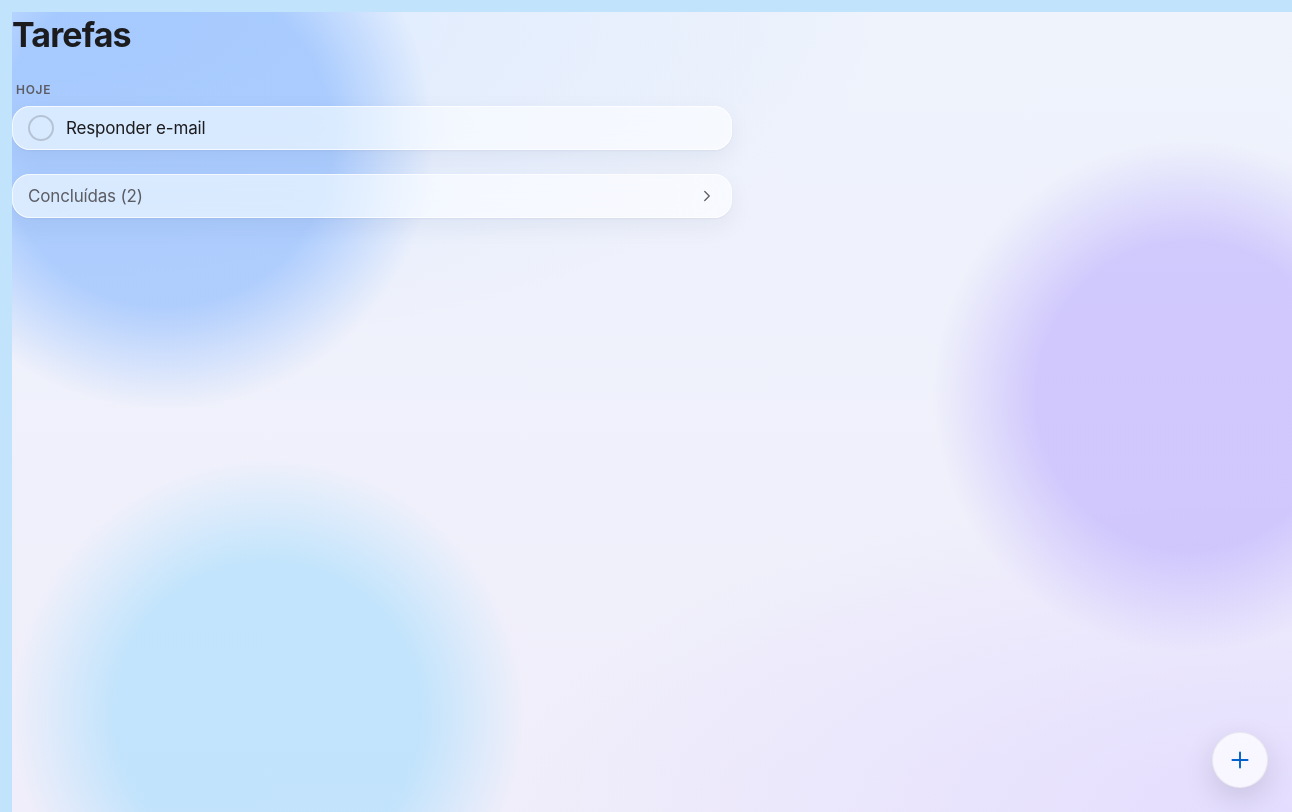
Test case: Tarefas › concluidas ficam recolhidas no fim, com a contagem
Click the button with class "concluidas__alternar" at (85, 196), box [12,174,732,218]
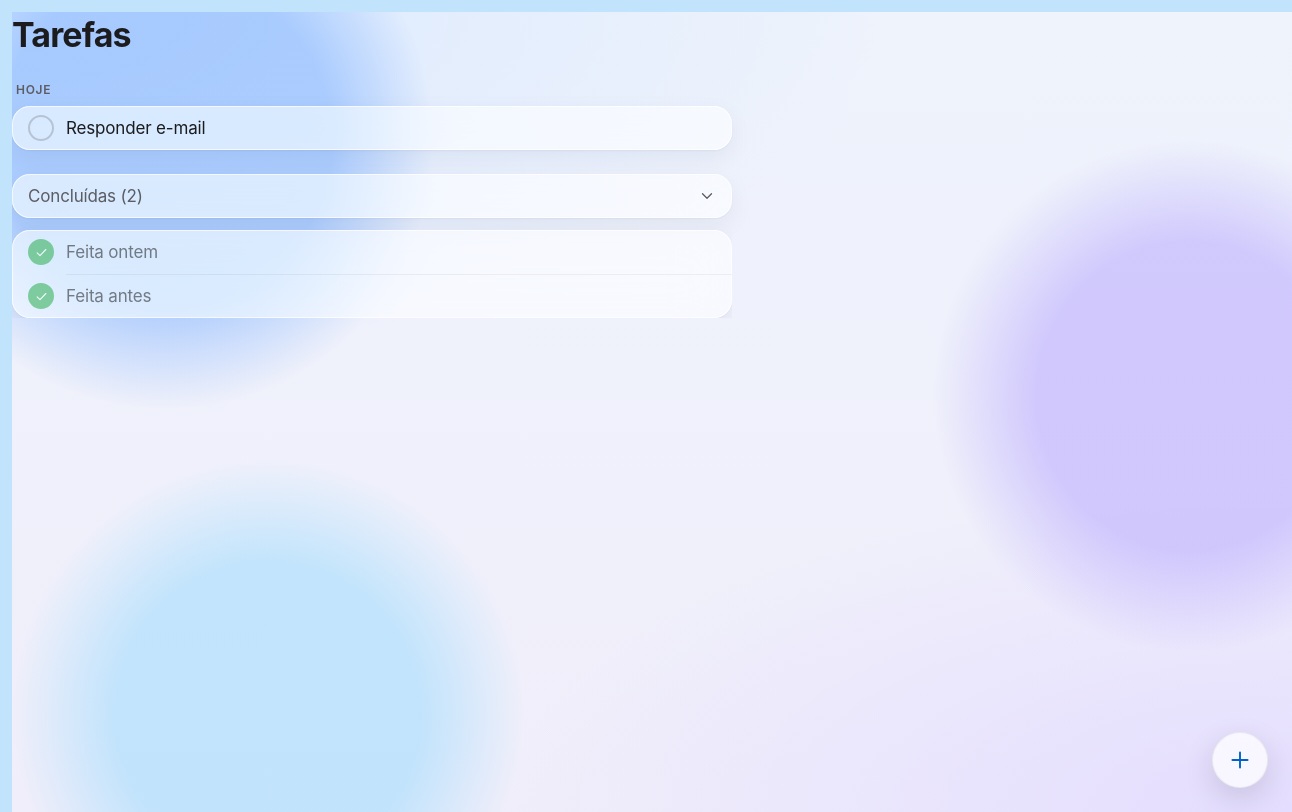
Now the button with class "concluidas__alternar" is expanded, box [12,174,732,218]
Now the text "Feita ontem" is shown, box [66,242,158,262]
